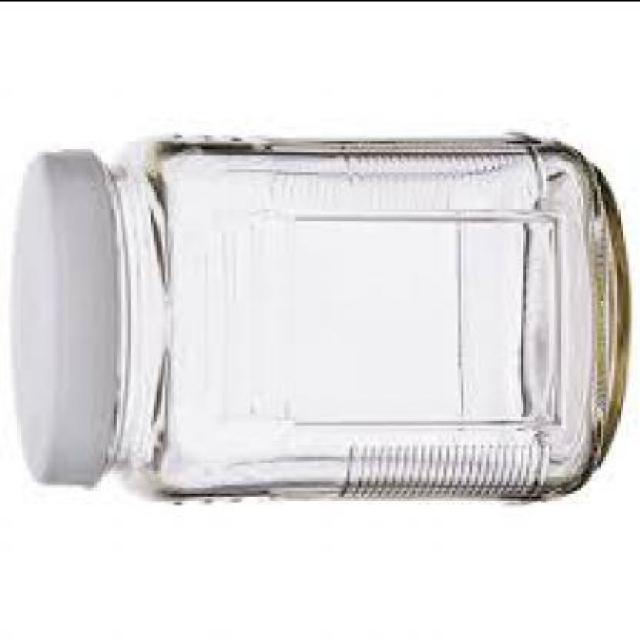GLASS: (106, 140, 631, 503)
PLASTIC: (11, 151, 117, 489)
